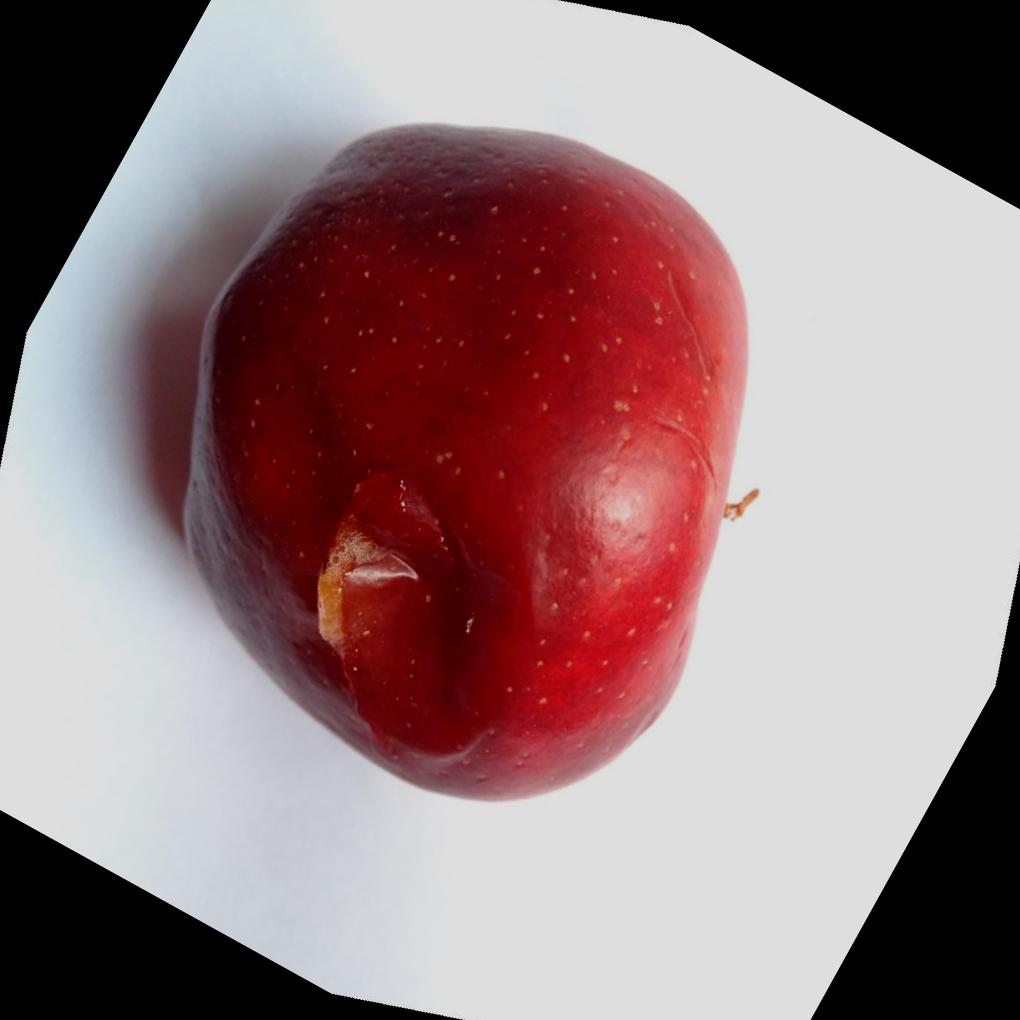FreshOrange: (176, 119, 755, 804)
